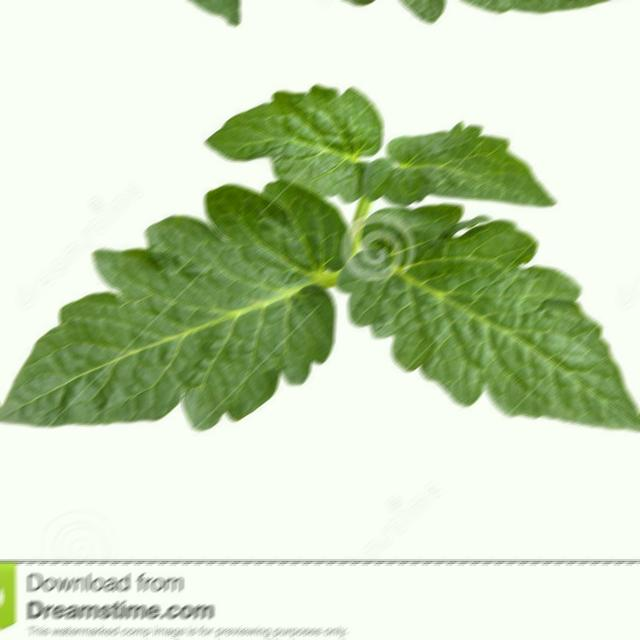Tomato leaf: (0, 161, 352, 481), (353, 193, 640, 461), (233, 0, 640, 57)
